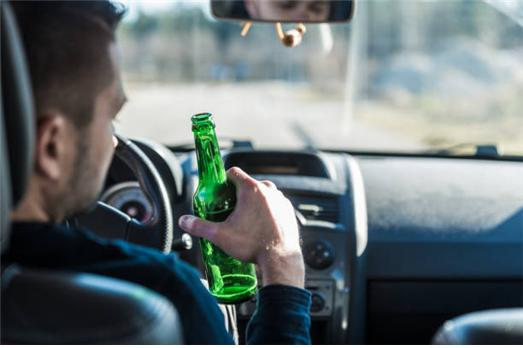alcohol: (191, 111, 255, 297)
